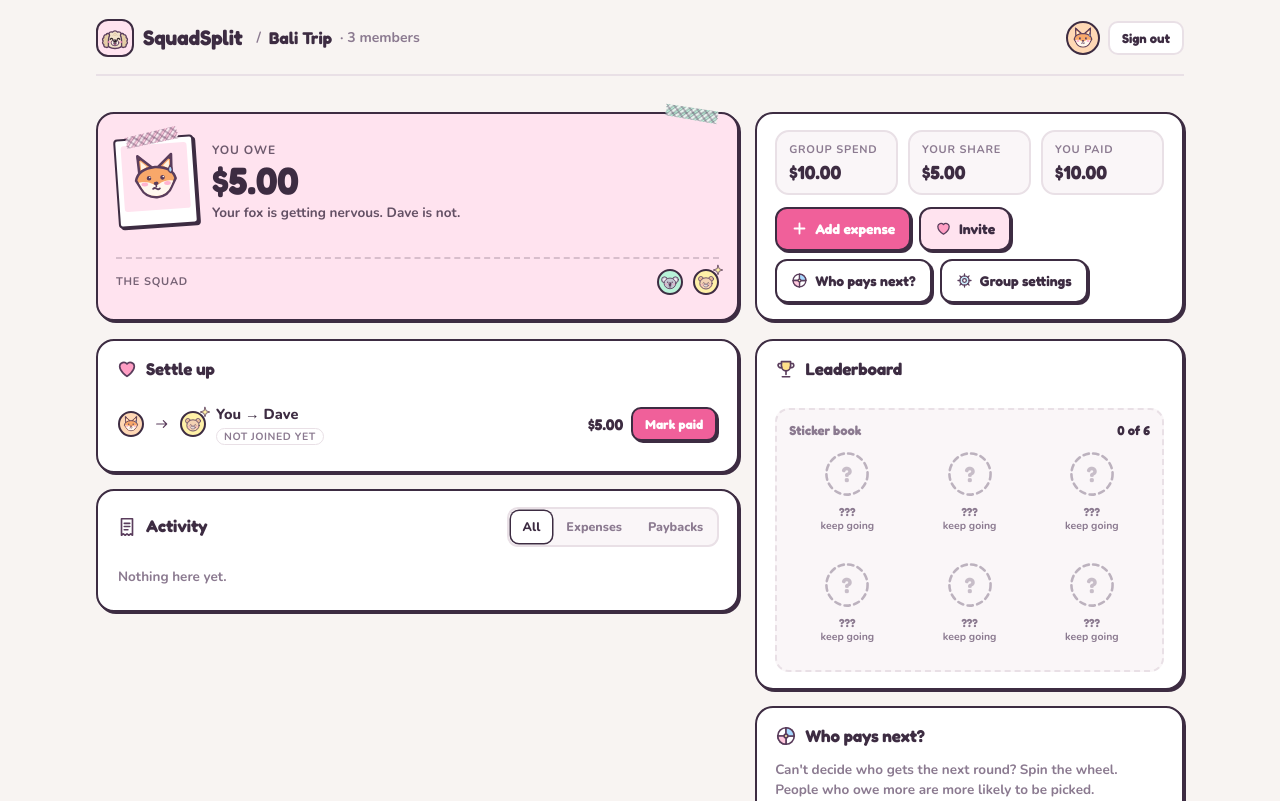
Your mix with someone who has not joined › celebrates paying them, with the heart hopping from you to them
Step 1. Click the button "Mark paid" → point(674, 424), box [631,407,717,441]
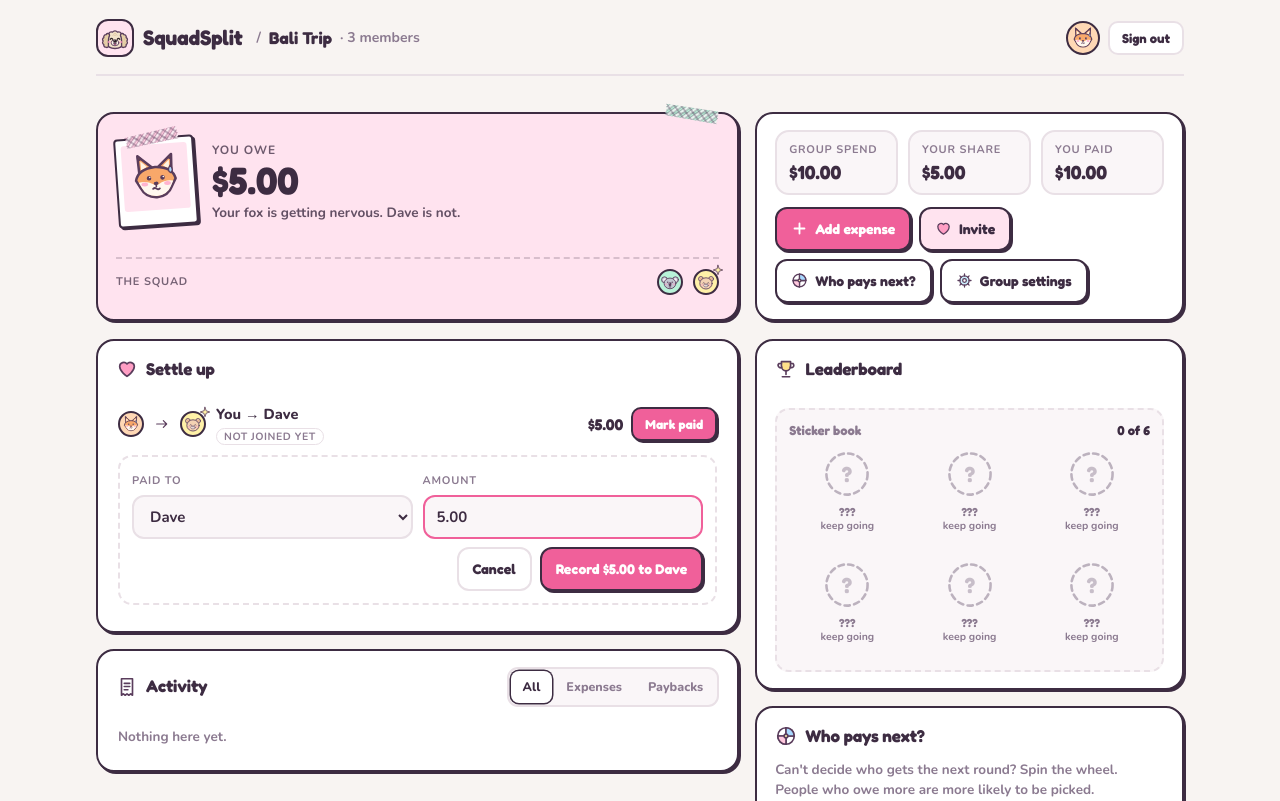
Step 2. Click the button "Record $5.00 to Dave" → point(621, 569), box [540,547,703,591]
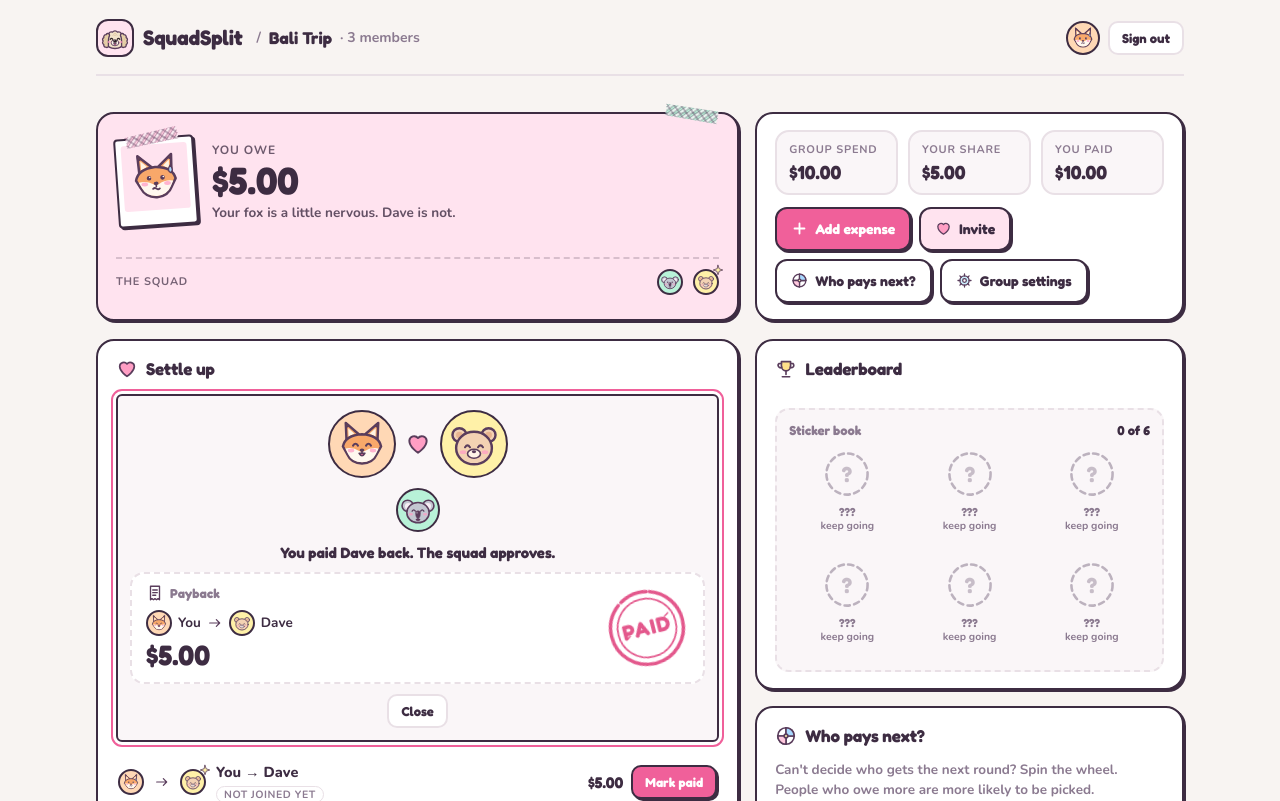
Check: the element named "Payback confirmed" shows "You paid Dave back. The squad approves.", box [116,394,719,742]
Check: the 3rd icon with class "mascot-fox" is shown, box [336,418,388,470]
Check: the 2nd icon with class "mascot-bear" is shown, box [448,418,500,470]
